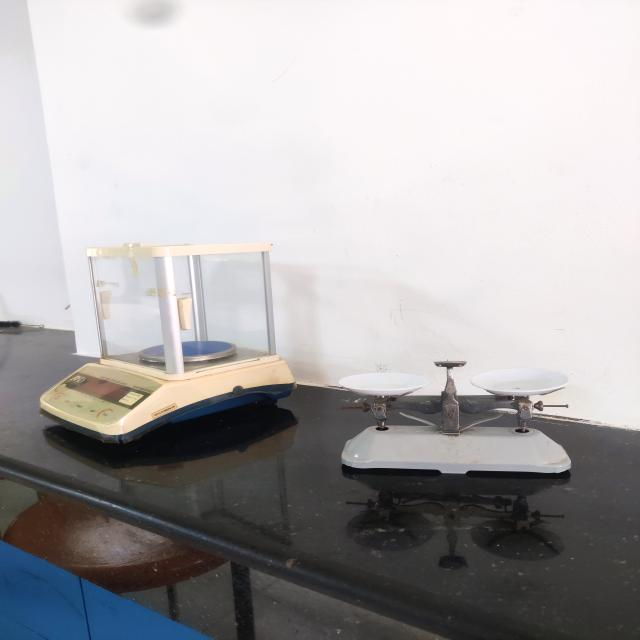Mechanical_Balance_Scale: (314, 342, 616, 509)
Precision_Weight_Scale: (34, 230, 307, 460)
